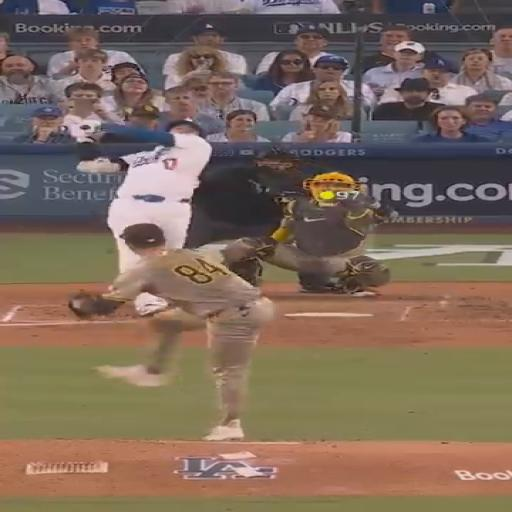bat: (79, 124, 89, 131)
